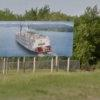Boat: (13, 22, 58, 62)
